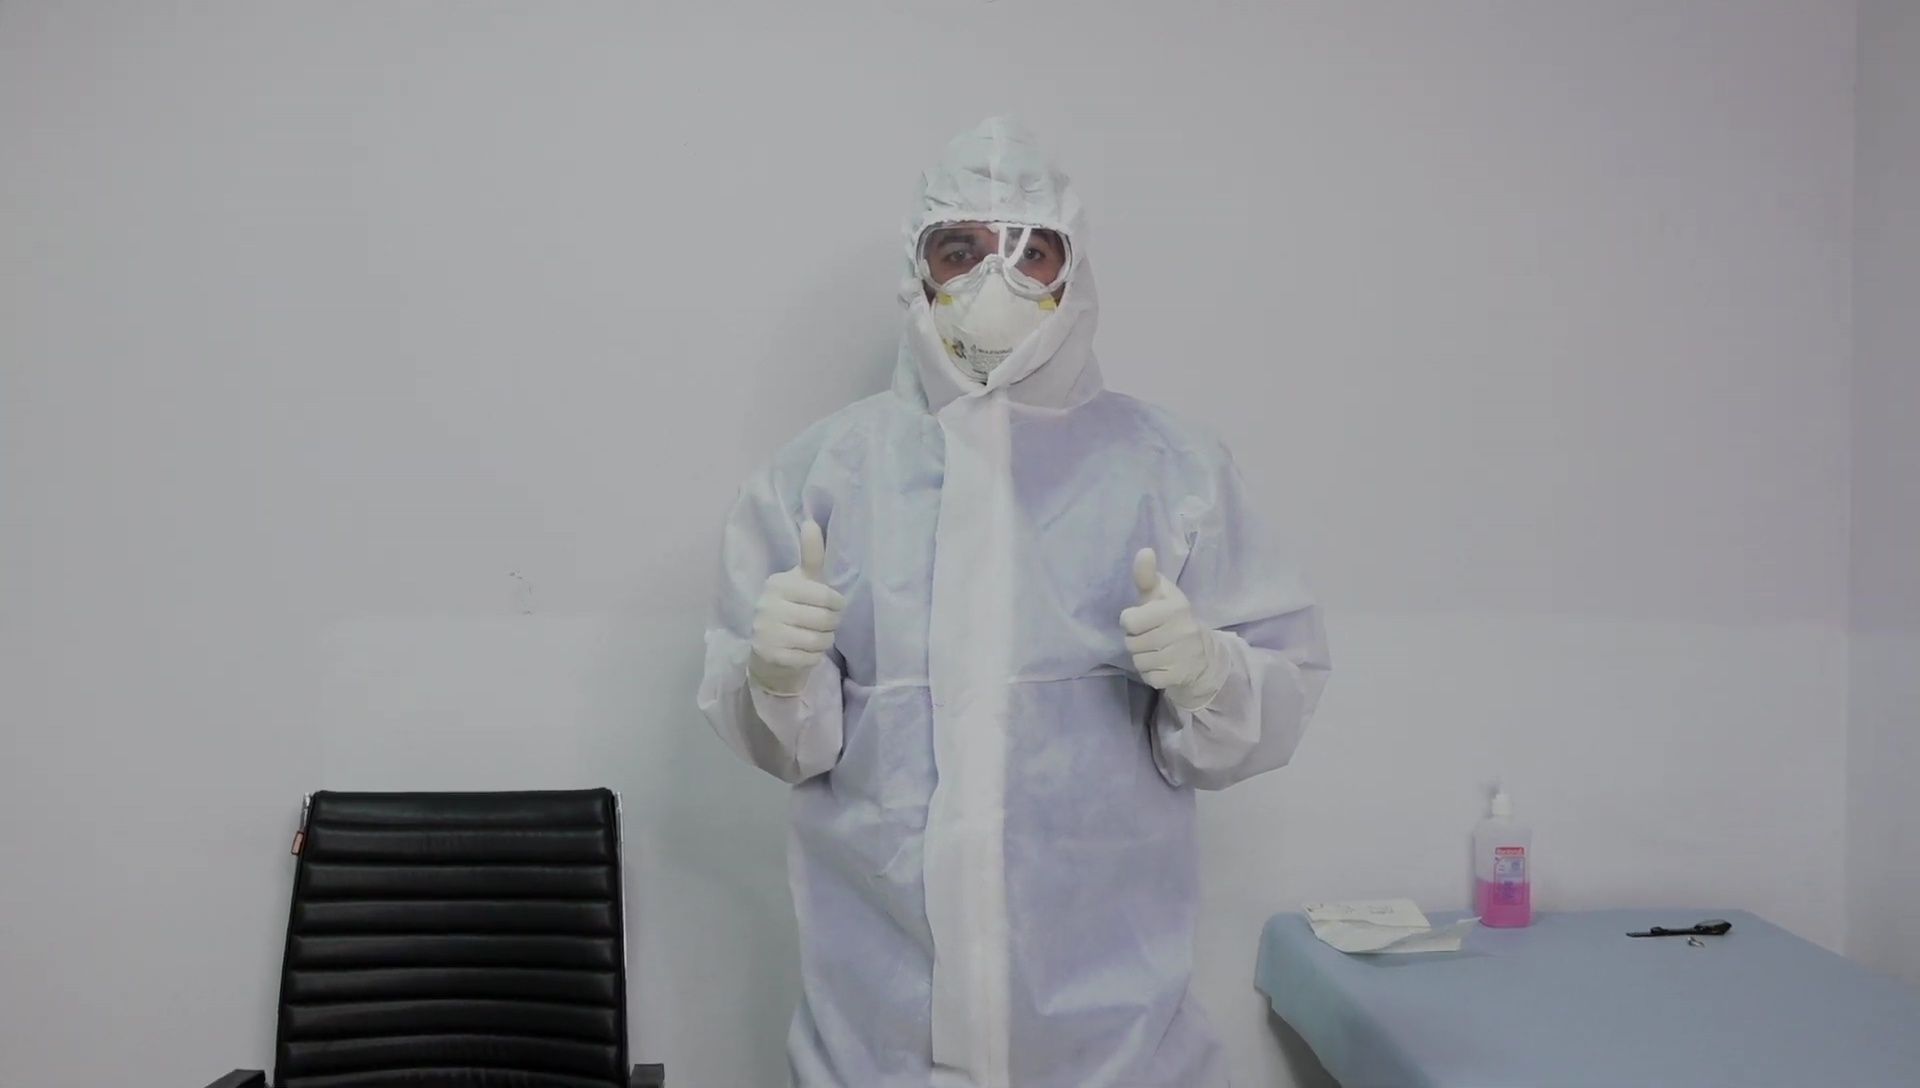Coverall: (696, 117, 1328, 1086)
Gloves: (747, 519, 846, 681), (1116, 546, 1209, 690)
Goggles: (914, 219, 1074, 303)
with_mask: (930, 258, 1062, 385)
